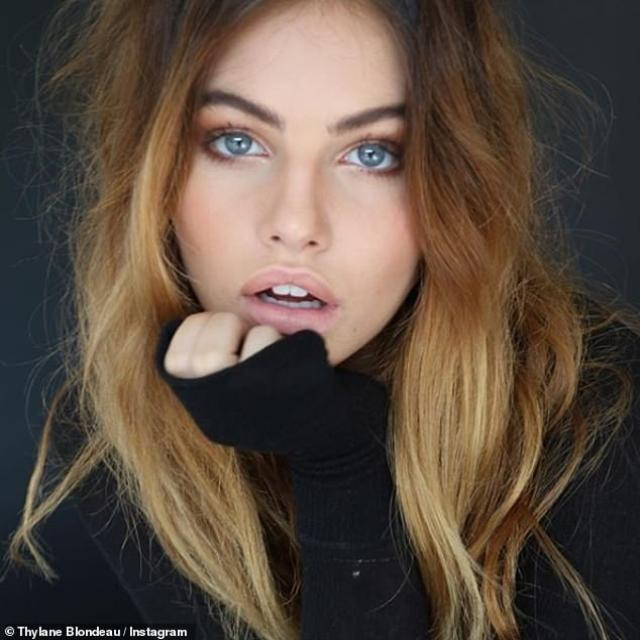human: (40, 0, 640, 640)
